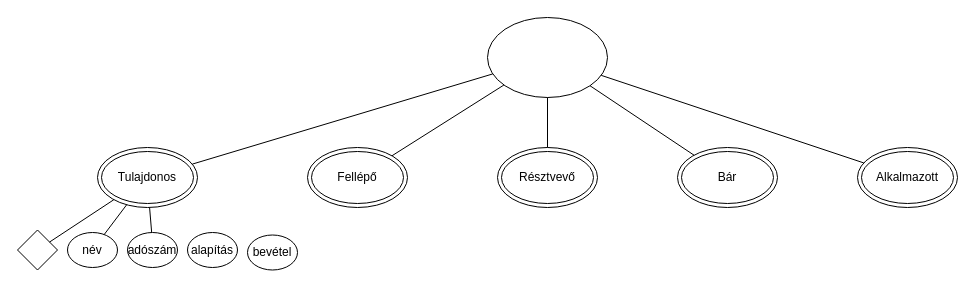
Image size: 975x288. Some labels were removed from this diagram. Each missing label, with the centre of its shape:
"Fesztivál" belongs at (x=547, y=57).
"T_ID" belongs at (x=37, y=249).
